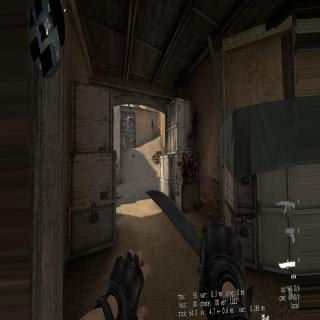CT-Body: (152, 119, 154, 130)
CT-Head: (152, 119, 153, 121)
